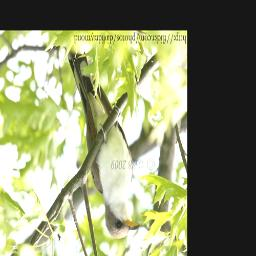Cuckoo: (68, 46, 141, 241)
